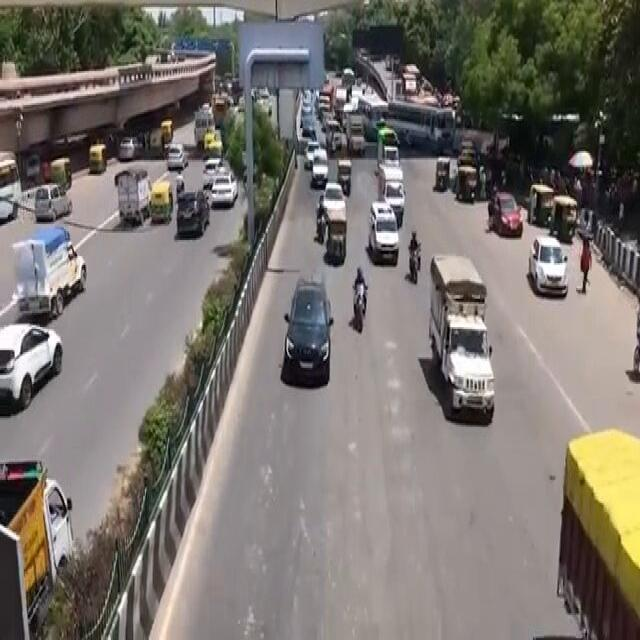three_wheeler: (321, 202, 350, 268)
